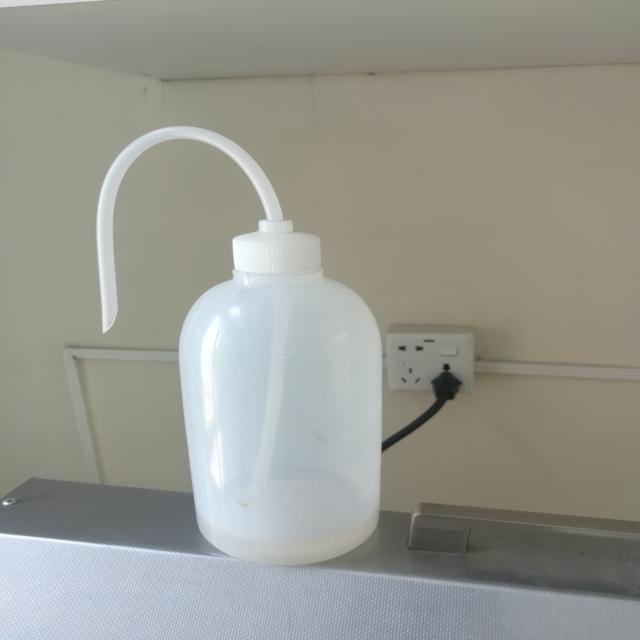Wash_Bottle: (48, 89, 426, 599)
